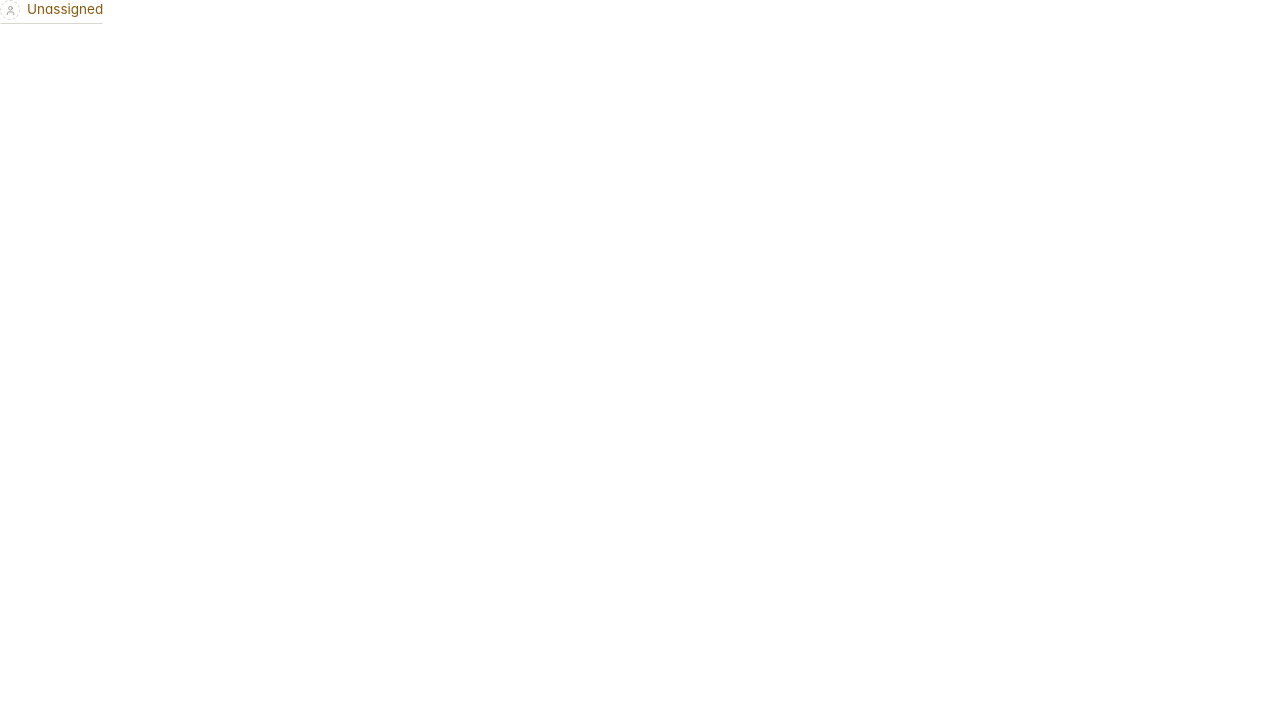
Test: AssigneePicker › round avatars, "You", Unassigned in the warning tone
Later steps or results of the test are not shown.
Expected: the text "Unassigned" is shown, [27, 0, 103, 20]
Click the button with aria-label "Assignee: Unassigned": (52, 10) [0, 0, 103, 20]
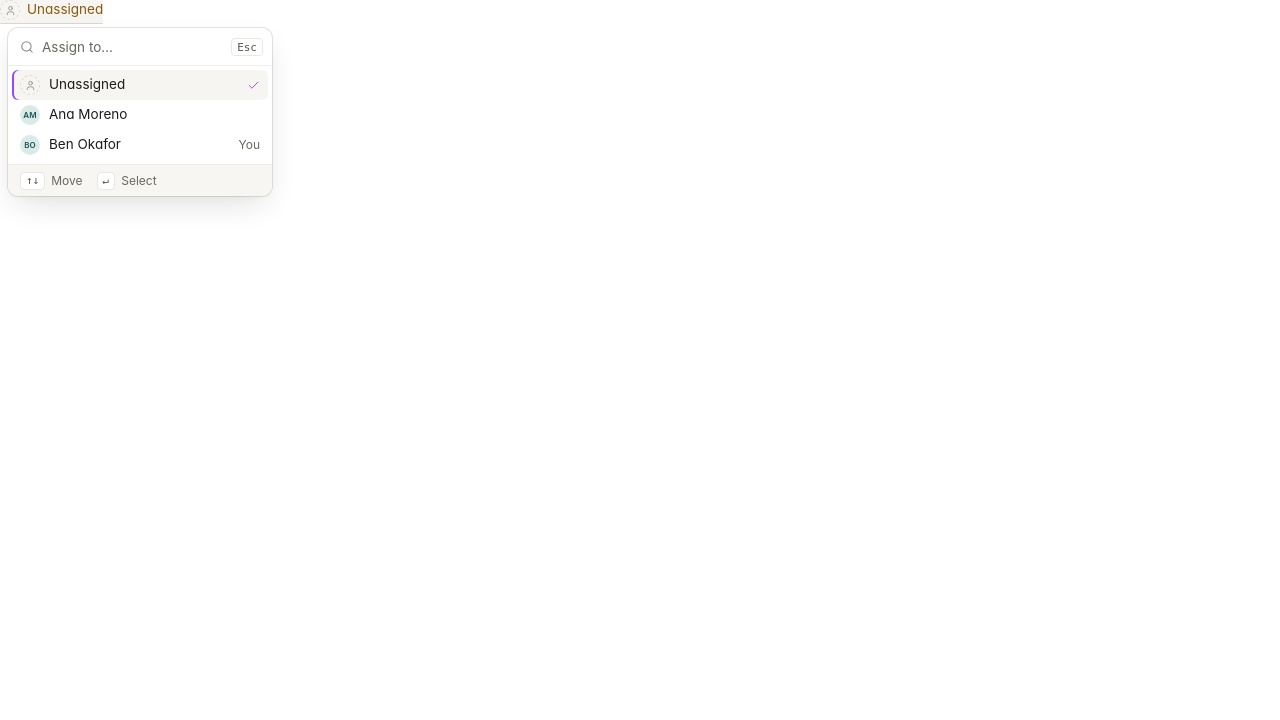
Result: the text "AM" is shown at [20, 105, 40, 125]
